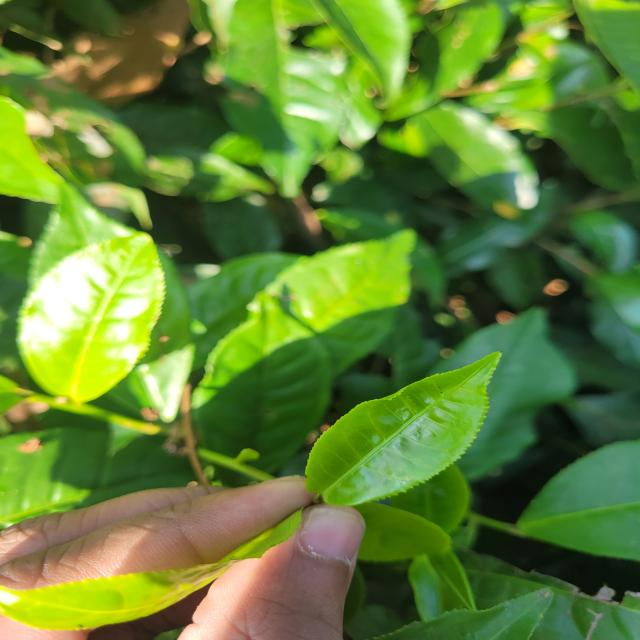Catagory A(1-2 days): (302, 334, 502, 516)
